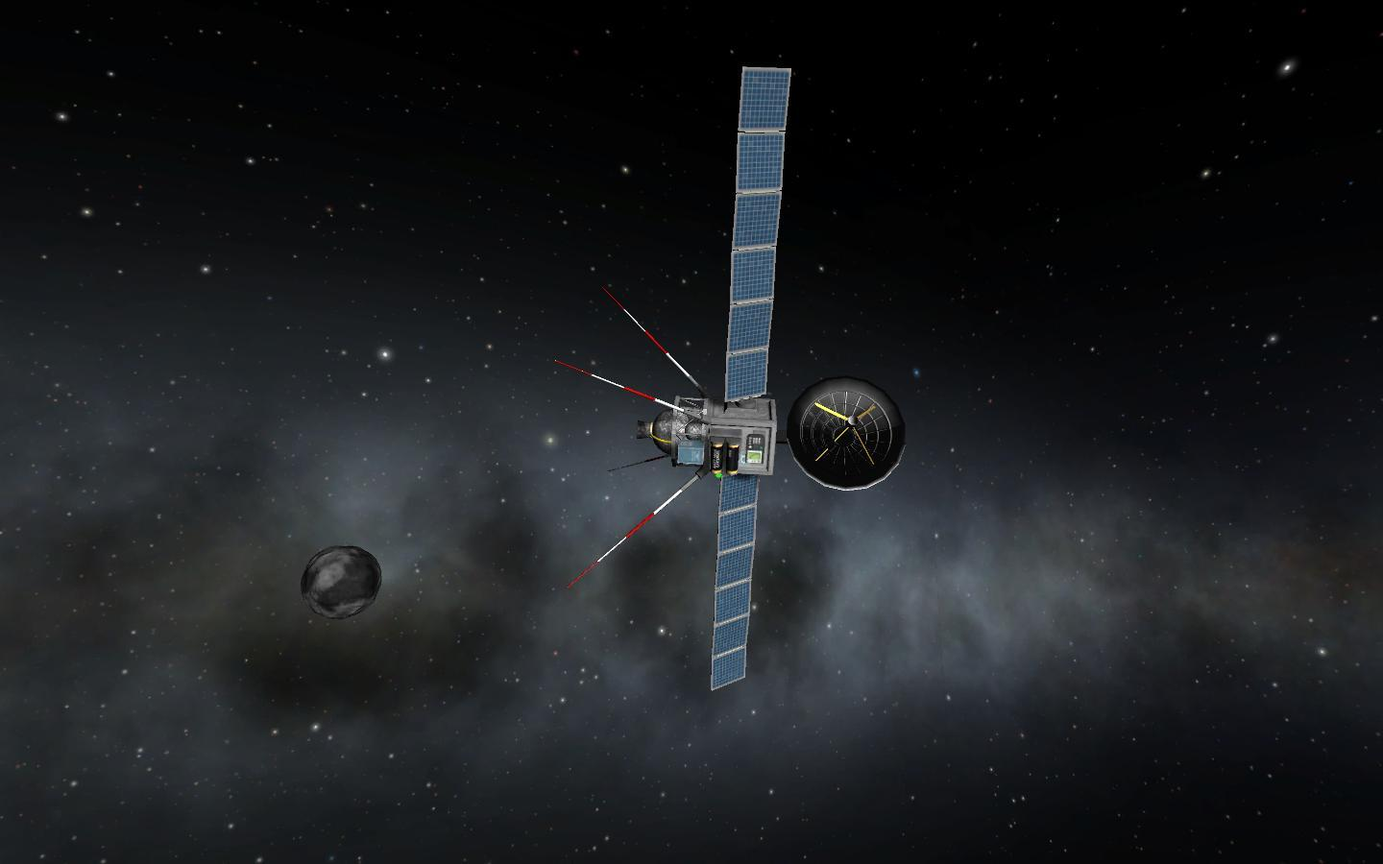antenna: (563, 471, 706, 593), (784, 372, 909, 494), (597, 282, 710, 396), (551, 355, 703, 420)
body: (668, 394, 780, 477)
solar: (722, 62, 794, 405), (707, 472, 762, 694)
thruster: (633, 418, 655, 443)
